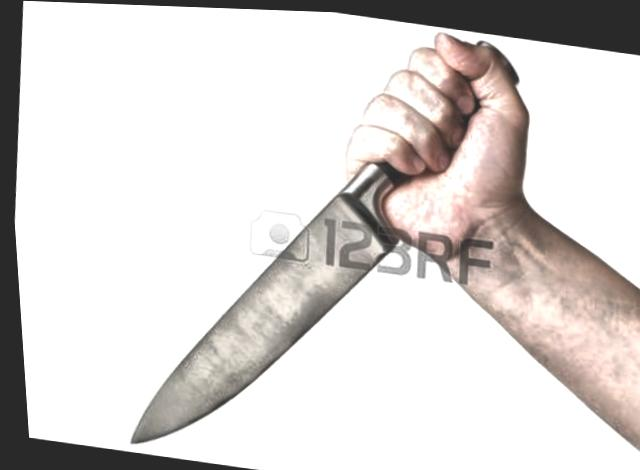knife: (94, 41, 497, 470)
